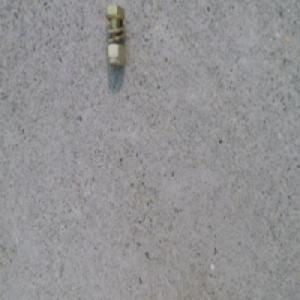BoltNutSet: (104, 12, 125, 73)
